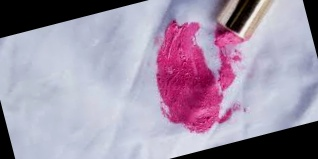lipstick: (135, 9, 242, 141)
